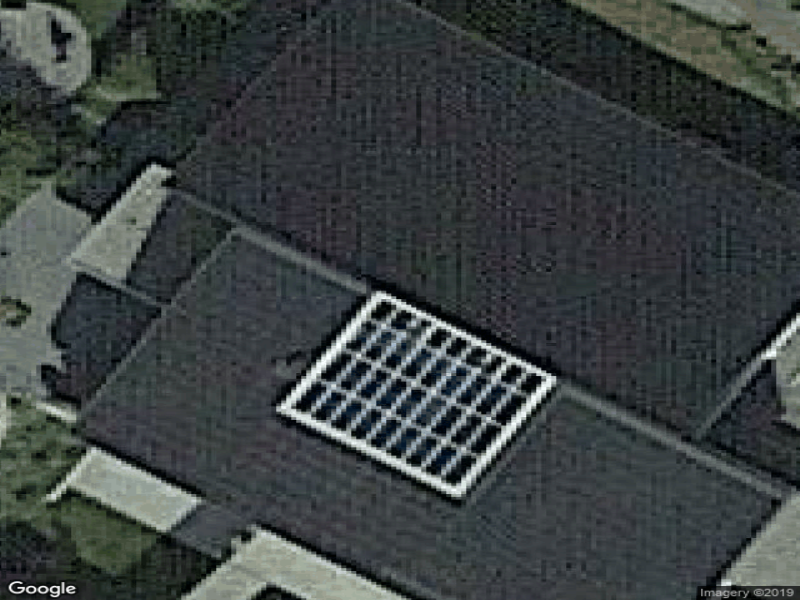pv: (282, 293, 558, 505)
